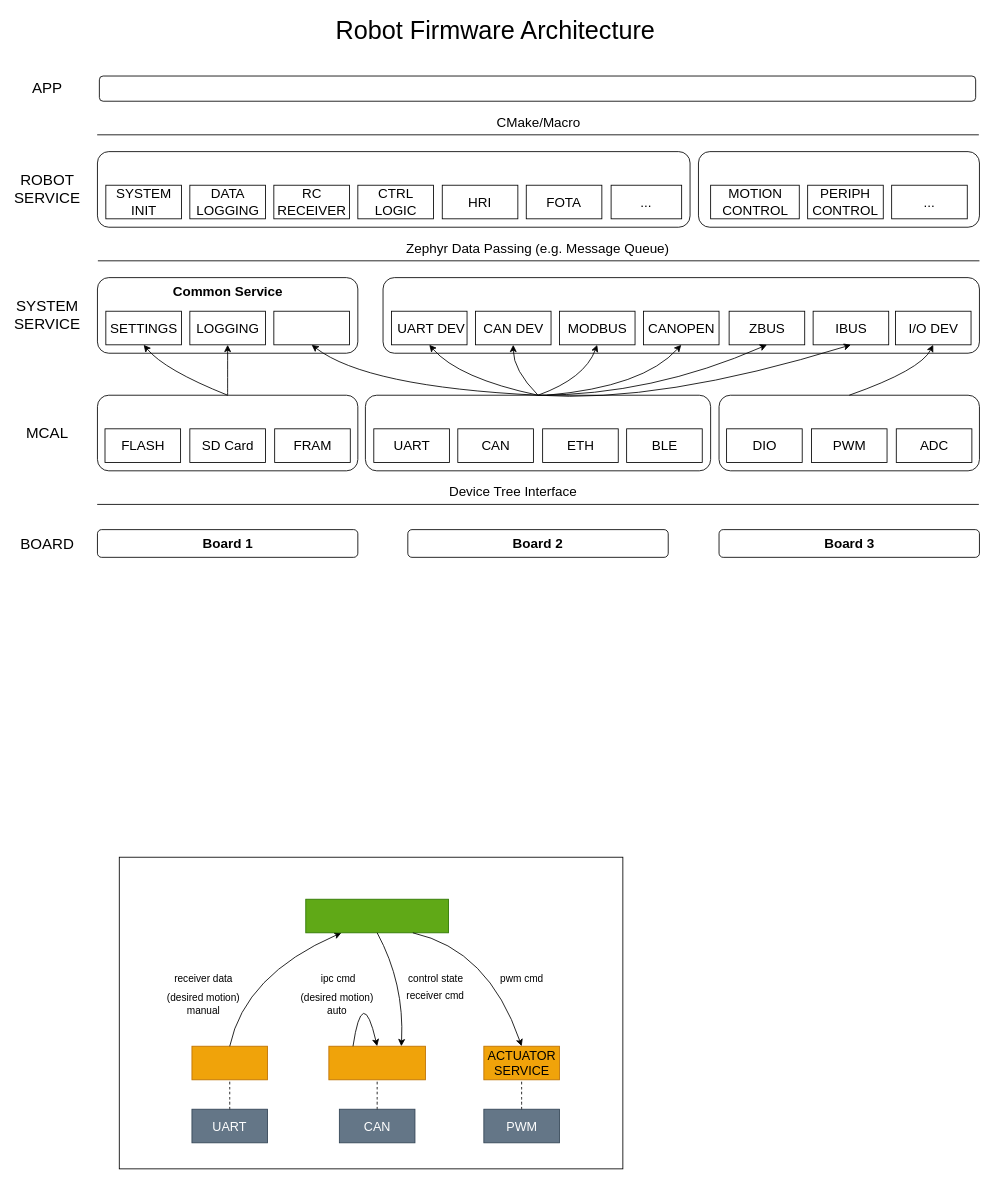
This 995x1184 diagram has some shape labels left out. Each missing label, with the box of its shape:
Communication: (365, 394, 711, 471)
COORDINATOR SERVICE: (305, 898, 449, 933)
Extended Service: (382, 277, 979, 353)
General Service: (97, 151, 690, 227)
I/O: (718, 394, 979, 471)
Memory: (97, 394, 358, 471)
MESSENGER SERVICE: (328, 1045, 425, 1080)
RECEIVER SERVICE: (191, 1045, 268, 1080)
Robot-Specific Service: (698, 151, 979, 227)
Setup: (99, 75, 976, 101)
SMP: (273, 310, 349, 345)
